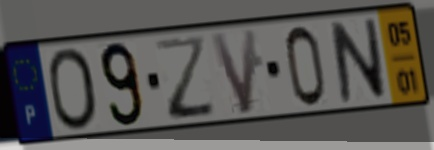0: (283, 23, 328, 110)
9: (98, 39, 147, 129)
N: (327, 16, 389, 106)
O: (45, 44, 102, 133)
V: (207, 25, 260, 118)
Z: (151, 32, 220, 123)
